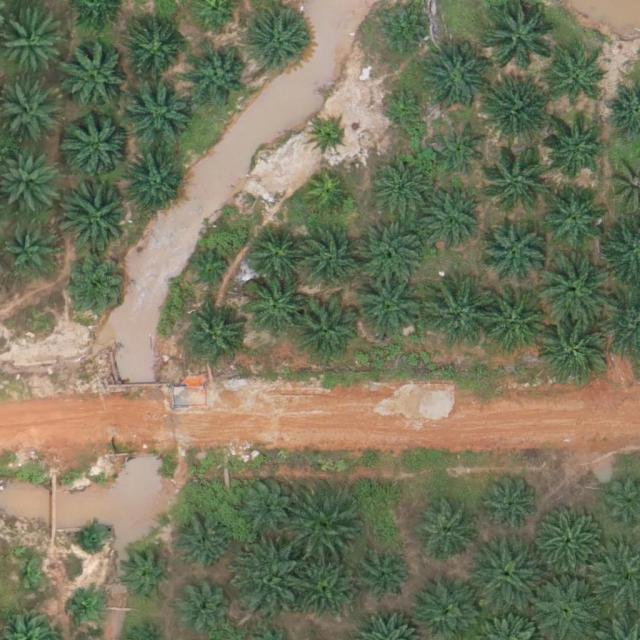Healthy: (419, 44, 490, 115), (292, 297, 363, 368), (61, 41, 132, 112), (531, 509, 602, 579), (476, 539, 546, 610), (234, 544, 304, 615), (540, 317, 610, 388), (477, 290, 547, 361), (485, 143, 555, 214), (355, 218, 426, 288), (421, 279, 491, 350), (123, 76, 193, 147), (64, 110, 134, 181), (63, 180, 133, 251), (290, 495, 360, 565), (539, 255, 609, 325), (479, 79, 549, 149), (354, 273, 424, 343), (247, 12, 310, 75), (419, 191, 482, 254), (299, 232, 362, 295), (122, 152, 185, 215), (480, 473, 542, 536), (417, 504, 479, 567), (294, 556, 356, 619), (235, 473, 297, 536), (543, 120, 605, 183), (482, 221, 544, 284), (246, 226, 308, 289), (189, 45, 251, 108), (185, 305, 247, 368), (65, 260, 127, 323), (543, 185, 605, 247), (371, 158, 433, 220), (243, 276, 305, 338), (550, 55, 605, 110), (434, 124, 489, 179), (374, 4, 429, 59), (129, 25, 184, 80), (176, 517, 230, 573), (360, 551, 414, 606), (176, 579, 230, 634), (120, 547, 174, 602), (6, 226, 60, 281)
Small: (382, 86, 429, 133), (189, 250, 236, 297), (310, 118, 349, 157), (71, 590, 102, 622), (76, 521, 107, 552), (15, 561, 46, 592)
Yellow: (304, 172, 351, 219)
